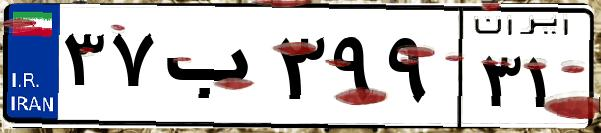1: (525, 38, 570, 115)
3: (270, 28, 330, 110), (57, 26, 110, 100), (475, 38, 525, 113)
7: (110, 28, 158, 98)
9: (385, 28, 445, 110), (330, 28, 385, 110)
ب: (158, 20, 270, 120)
